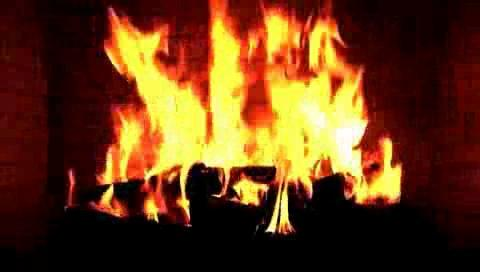fire: (90, 4, 382, 223)
